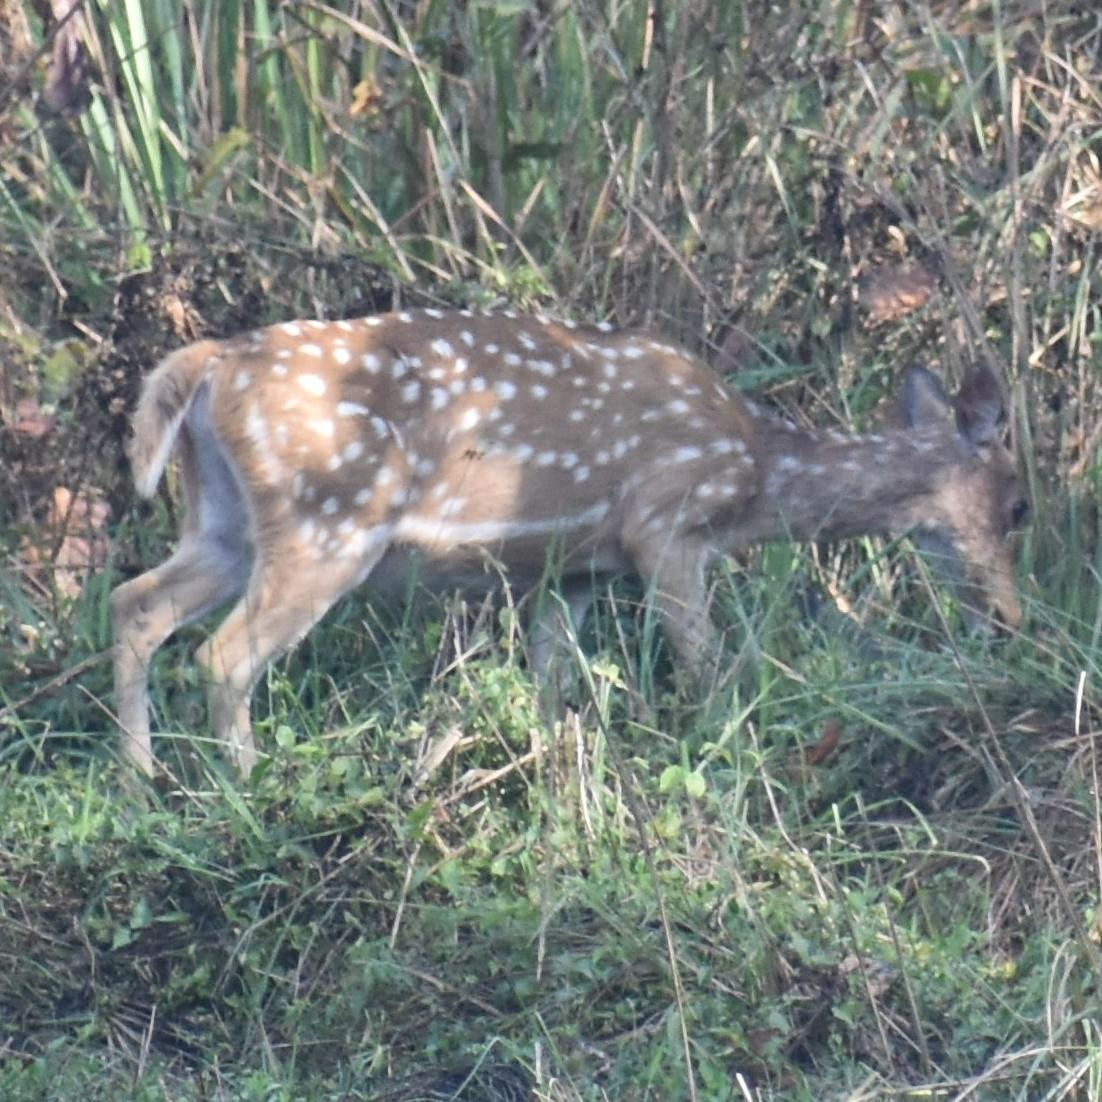Deer: (110, 310, 1026, 773)
